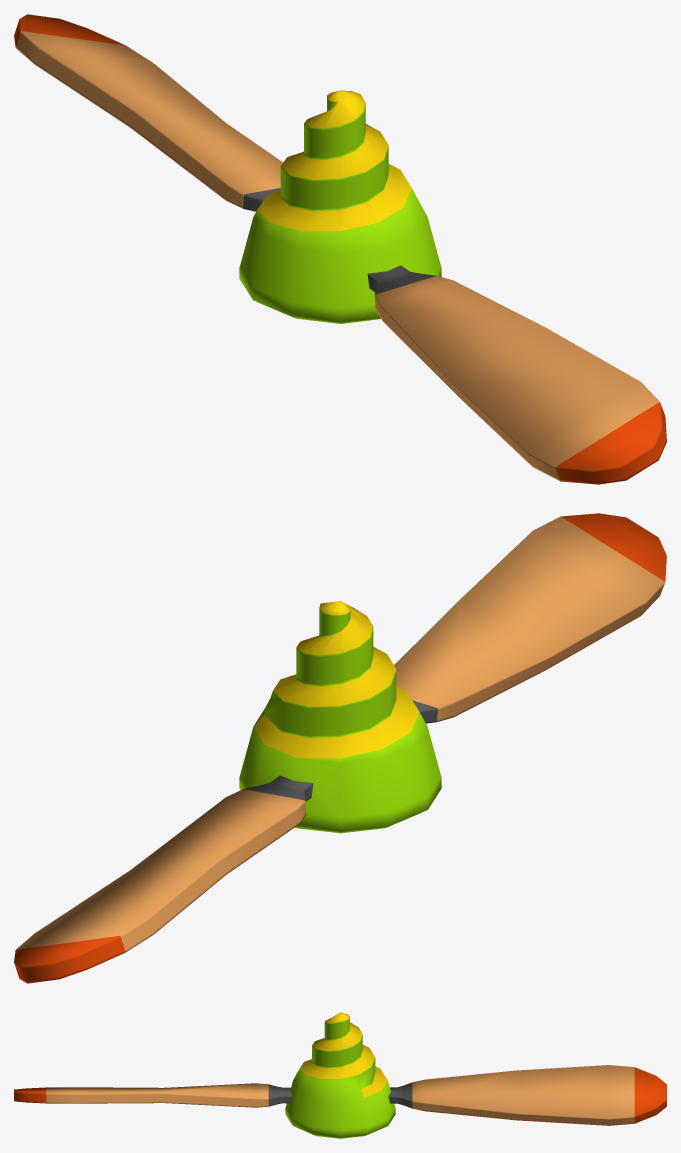
File: propeller.fbx
The picture shows the model from 3 angles, top to bottom: view 1: azimuth 30°, elevation 25°; view 2: azimuth 150°, elevation 25°; view 3: azimuth 270°, elevation 25°; orthographic projection. The views are drawn at different scales.
Visible parts, largest first — view 1: Propeller; view 2: Propeller; view 3: Propeller.
Boxes of the visible parts, box(x1,y1,x2,y2) form: Propeller: box(14, 14, 666, 484); Propeller: box(14, 513, 666, 983); Propeller: box(14, 1012, 666, 1138).
Bounding box in the file's own units: 87.45 × 93.12 × 518.
